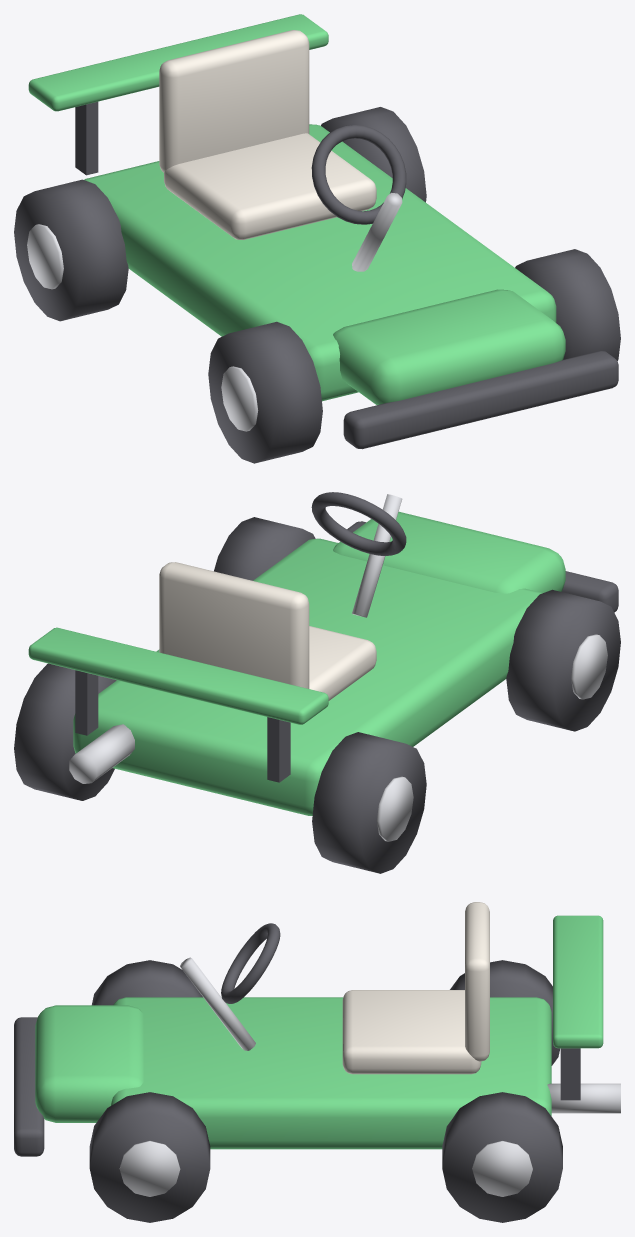
The model's file is Carrito.fbx.
3 views of the same model, one above another, from view 1: azimuth 30°, elevation 25°; view 2: azimuth 150°, elevation 25°; view 3: azimuth 270°, elevation 25° (orthographic). The views are drawn at different scales.
Visible parts, largest first — view 1: Carrito; view 2: Carrito; view 3: Carrito.
Boxes of the visible parts, bbox=[...] form: Carrito: bbox=[14, 14, 620, 463]; Carrito: bbox=[14, 492, 620, 873]; Carrito: bbox=[14, 902, 620, 1222].
Size of the model in its own units: 1.47 by 0.955 by 2.41.
